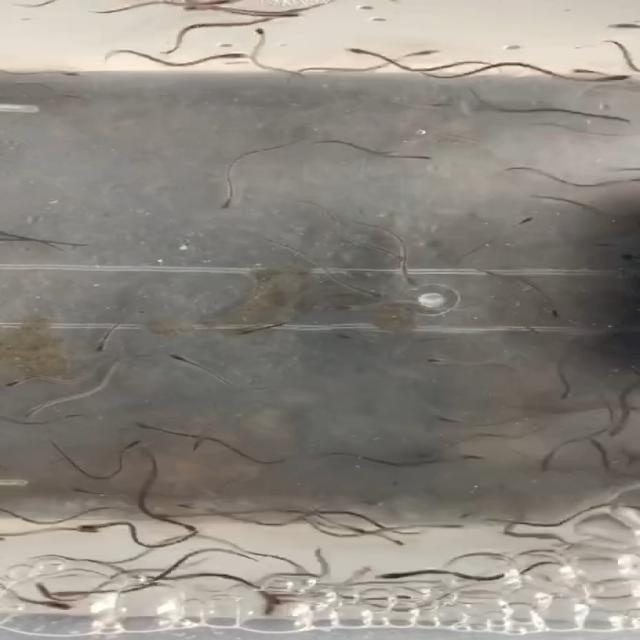active_glass_eel: (557, 58, 601, 88), (411, 148, 463, 172), (158, 348, 202, 372), (584, 74, 640, 92), (127, 413, 175, 433), (332, 40, 374, 62), (410, 353, 456, 373), (549, 326, 589, 349), (247, 371, 298, 389), (405, 44, 454, 62), (46, 68, 94, 86), (448, 450, 496, 468), (106, 436, 154, 453), (247, 603, 296, 619), (588, 112, 640, 127), (237, 322, 276, 342), (401, 275, 439, 295), (500, 279, 540, 298), (515, 210, 557, 228), (238, 28, 284, 44), (41, 586, 97, 599), (16, 405, 62, 420), (205, 383, 243, 401), (372, 566, 409, 584), (0, 373, 39, 390), (30, 576, 71, 592), (352, 290, 388, 308), (63, 486, 109, 500), (375, 534, 415, 550), (428, 519, 477, 532), (548, 389, 588, 404), (213, 49, 250, 65), (84, 341, 126, 355), (528, 454, 560, 472), (417, 415, 465, 427), (42, 602, 87, 614), (495, 95, 539, 107), (574, 435, 607, 451), (171, 496, 198, 515), (70, 521, 104, 536), (597, 427, 628, 443), (605, 19, 640, 33), (147, 509, 182, 523), (409, 456, 437, 472), (183, 439, 212, 454), (541, 304, 568, 320), (216, 198, 240, 214), (115, 67, 142, 68)
